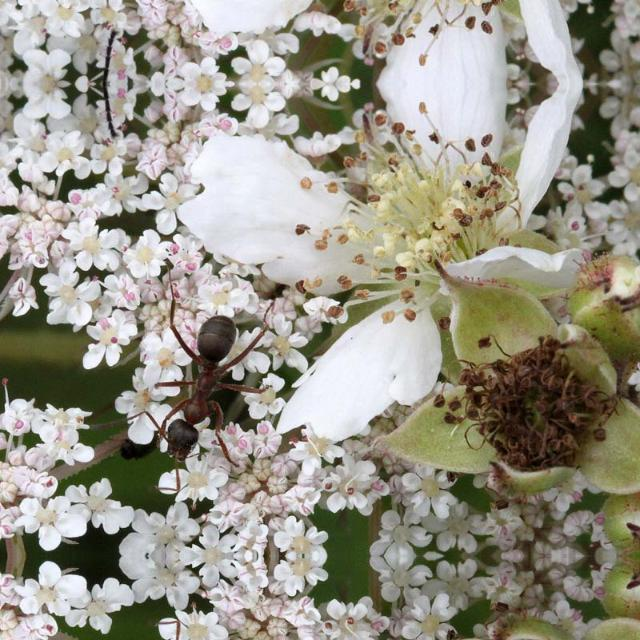Formica: (140, 296, 266, 468)
